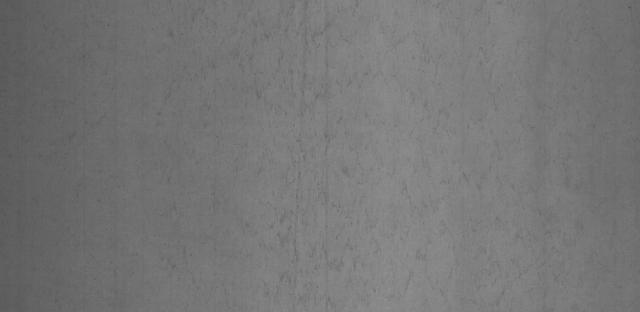silk_spot: (400, 11, 622, 288), (170, 10, 384, 294)
